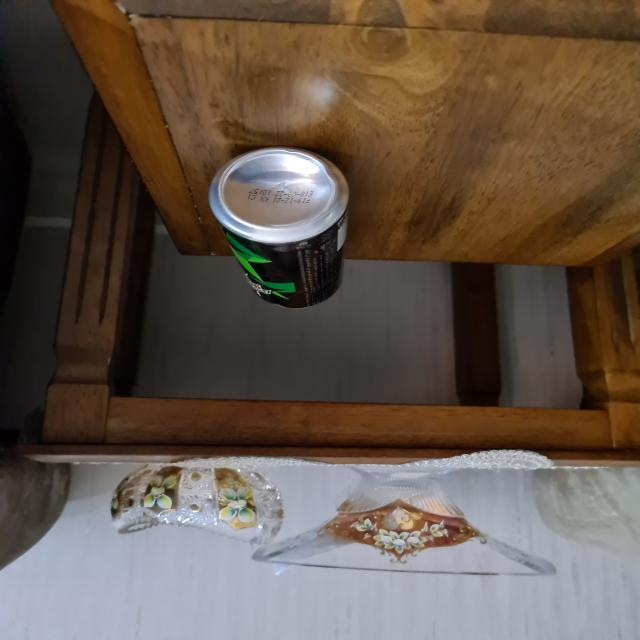can: (207, 144, 350, 312)
